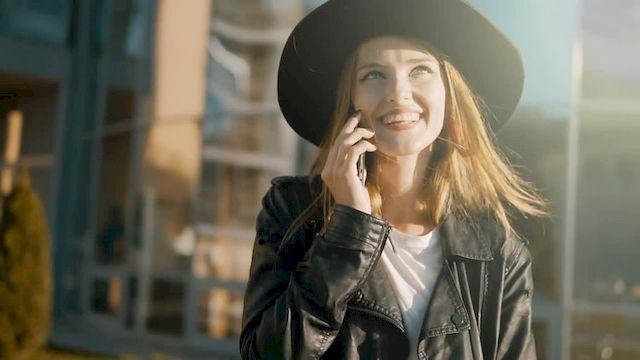phone: (336, 97, 372, 180)
talk: (319, 54, 446, 214)
